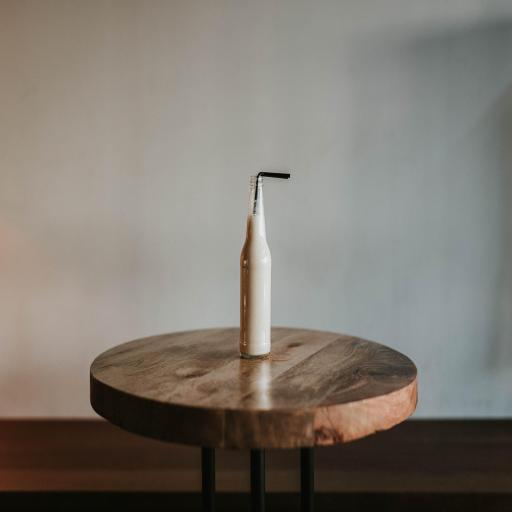glass bottle: (240, 174, 273, 361)
